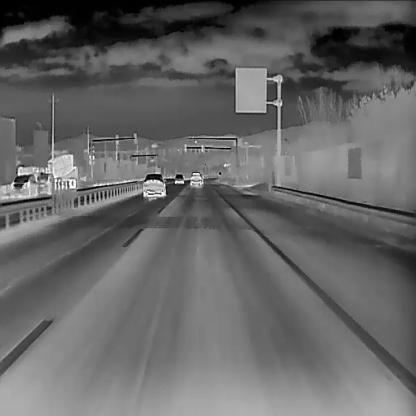car: (15, 152, 77, 191), (9, 173, 38, 198), (141, 172, 167, 196), (35, 172, 55, 195), (188, 171, 202, 185), (173, 173, 185, 185)
